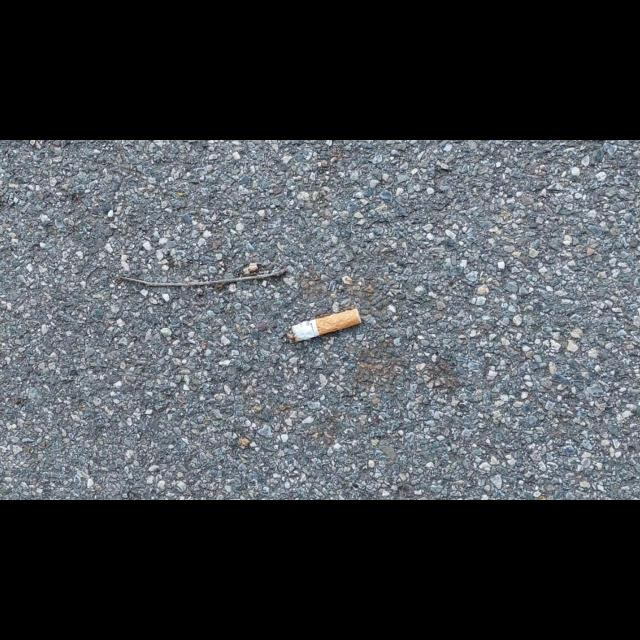cigarette: (286, 308, 362, 344)
